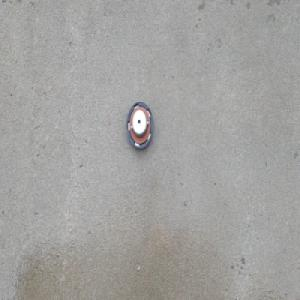FuelCap: (125, 100, 154, 151)
